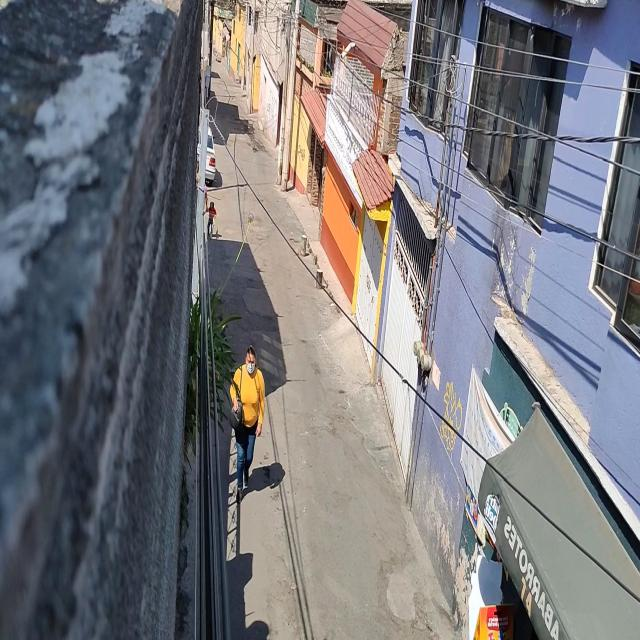adult: (230, 344, 266, 506)
